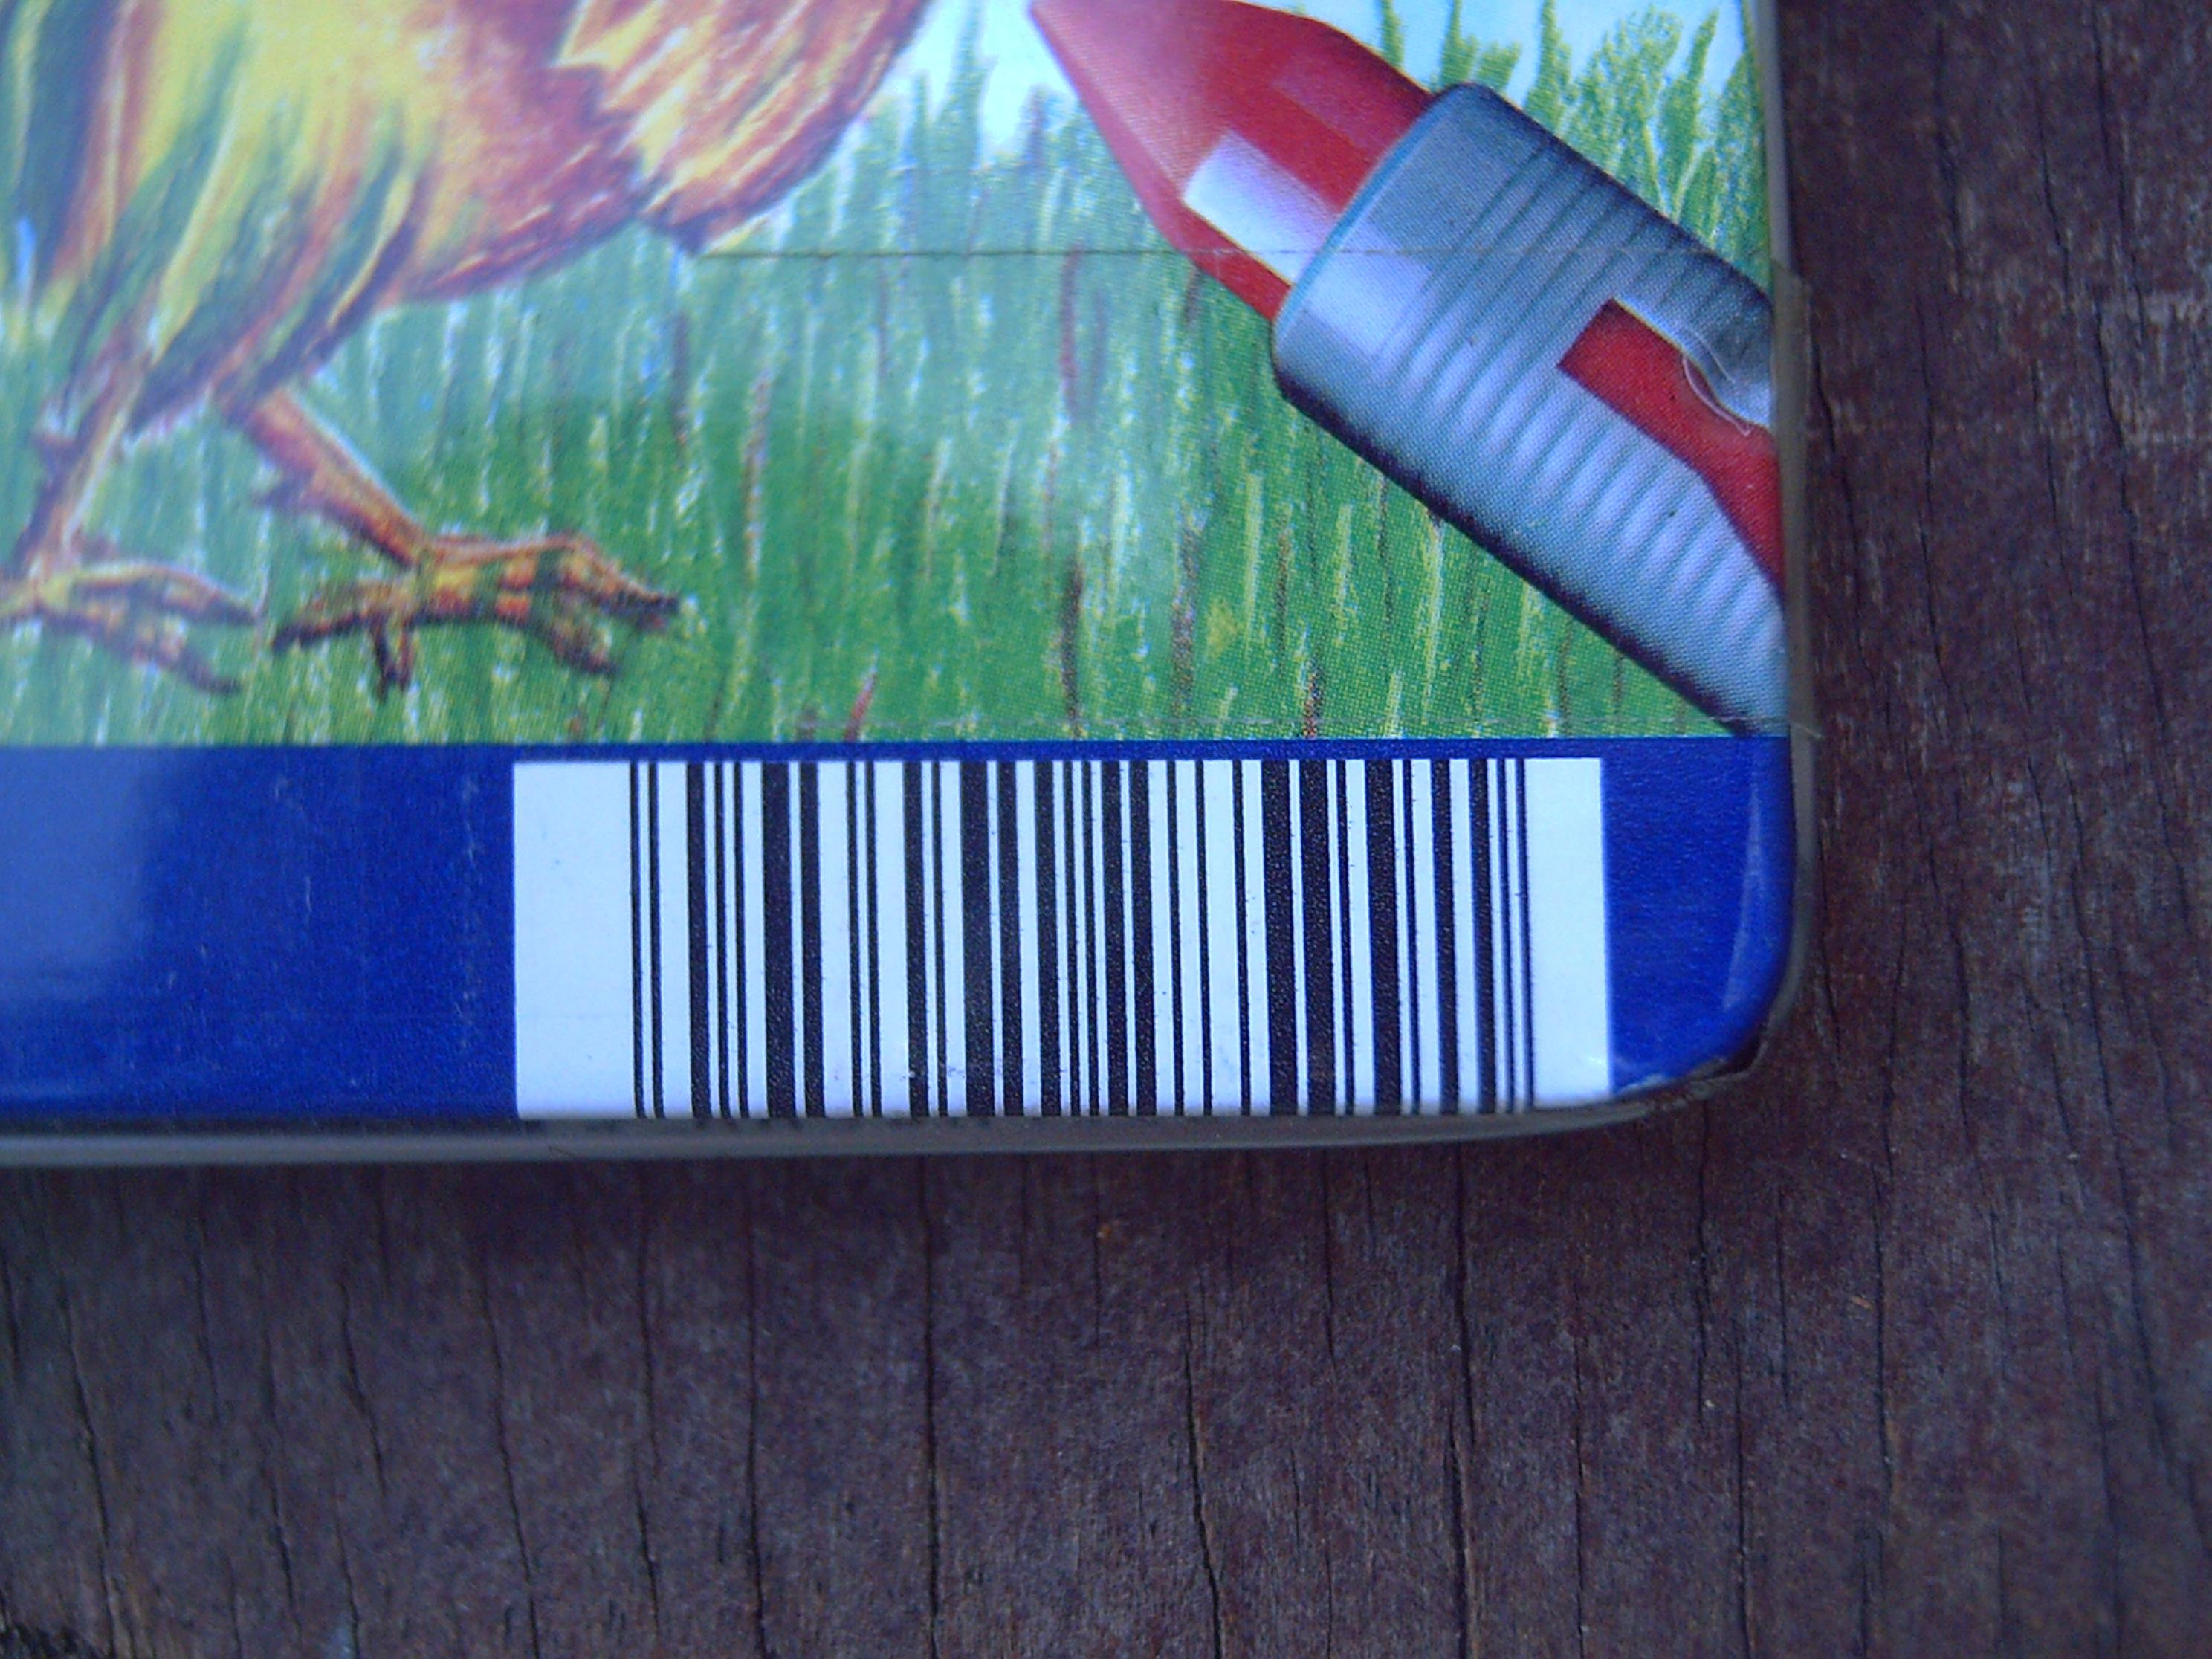barcode: (510, 760, 1613, 1115)
